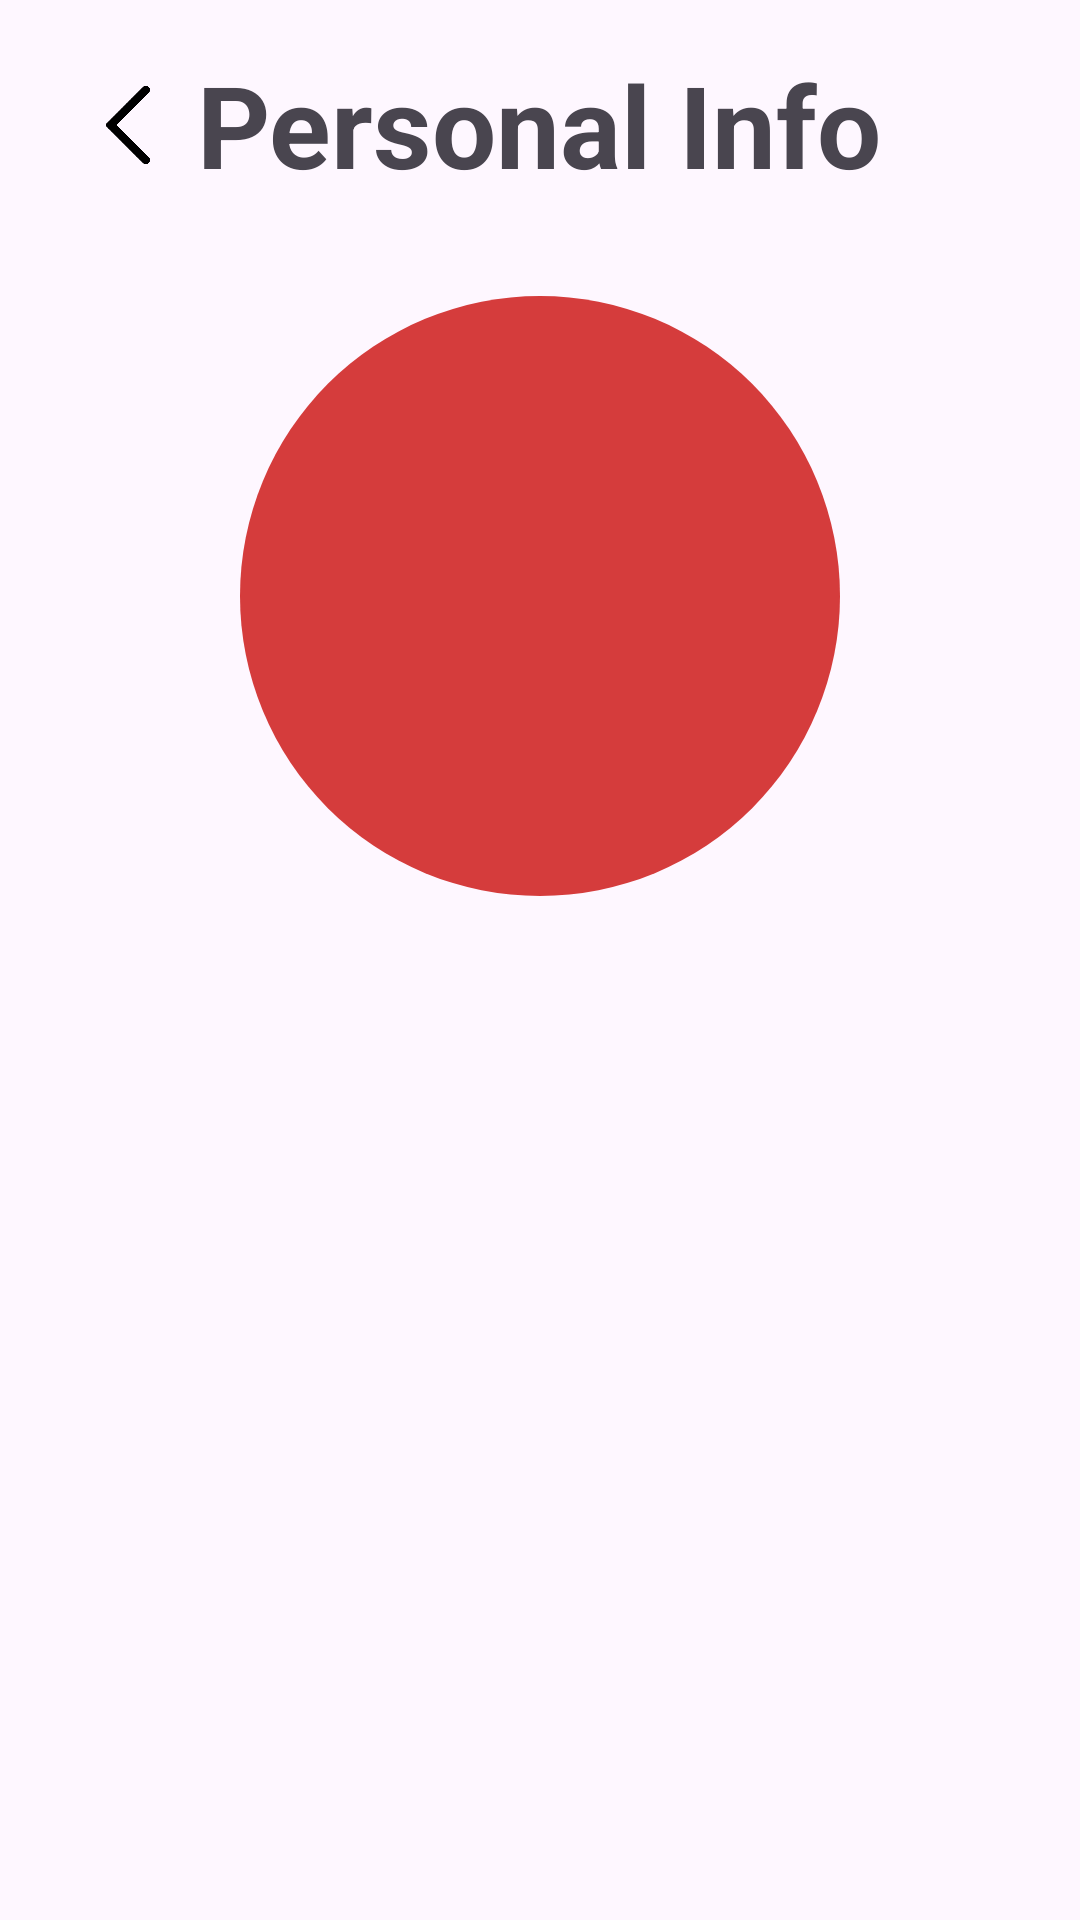

Named icons in this screenshot (1080px x 1920px) and their bounding boxes, (x1, y1, x2, y2):
backbutton: (106, 86, 150, 164)
